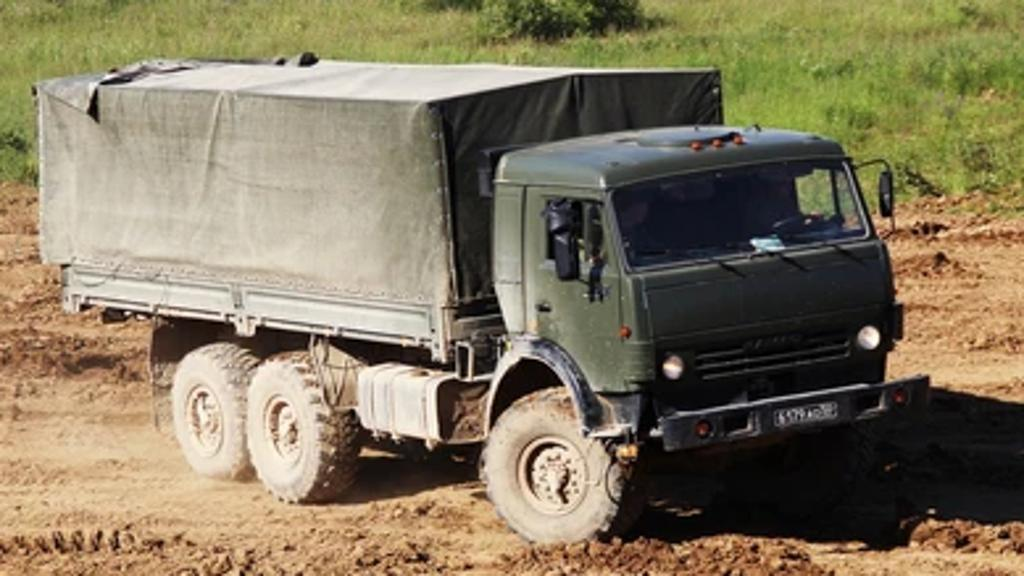TRUCK: (30, 49, 931, 556)
